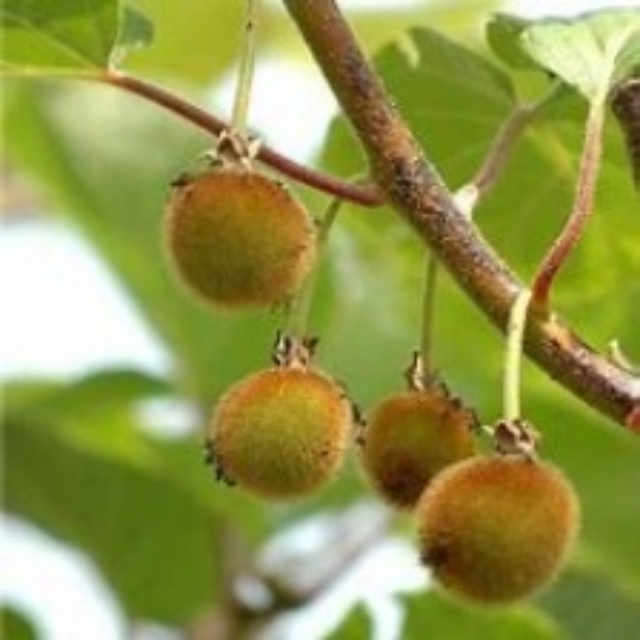kiwi: (160, 153, 312, 323), (201, 367, 367, 518), (428, 467, 573, 609), (351, 391, 486, 512)
